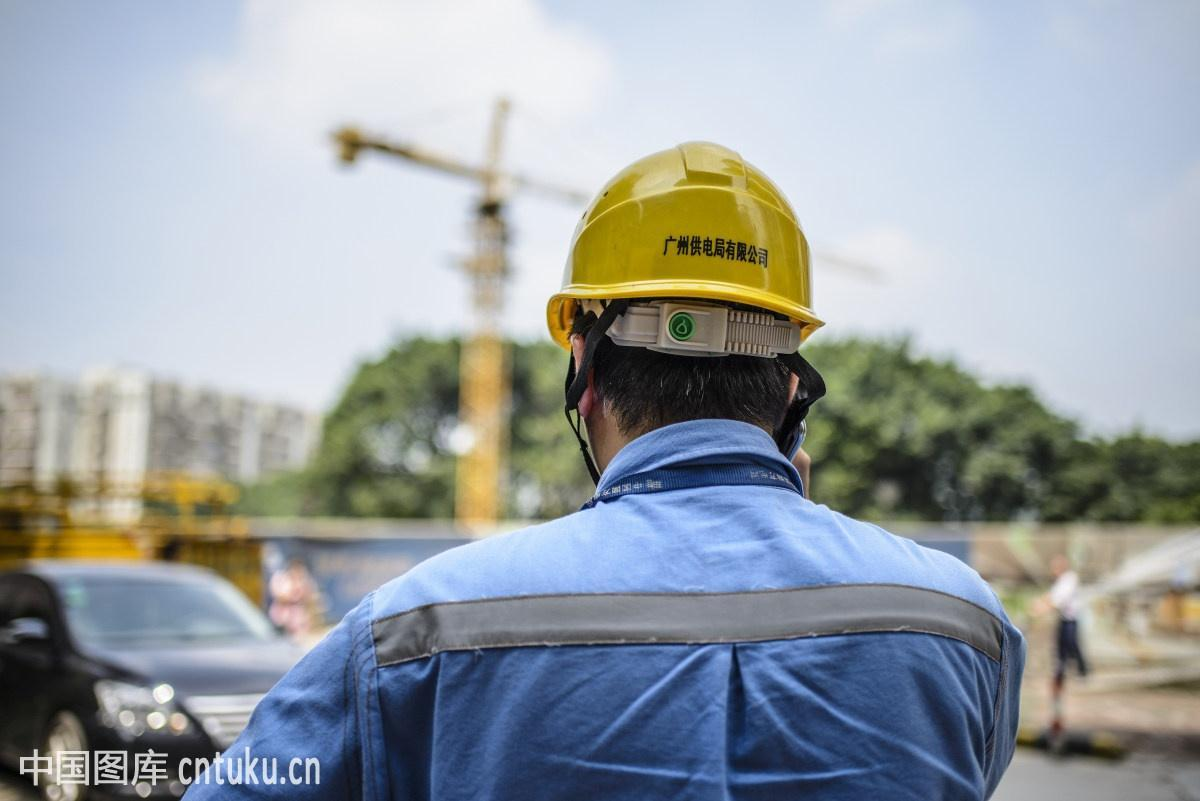helmet: (542, 144, 827, 336)
no-vest: (378, 427, 1019, 801)
person: (371, 132, 1035, 801)
